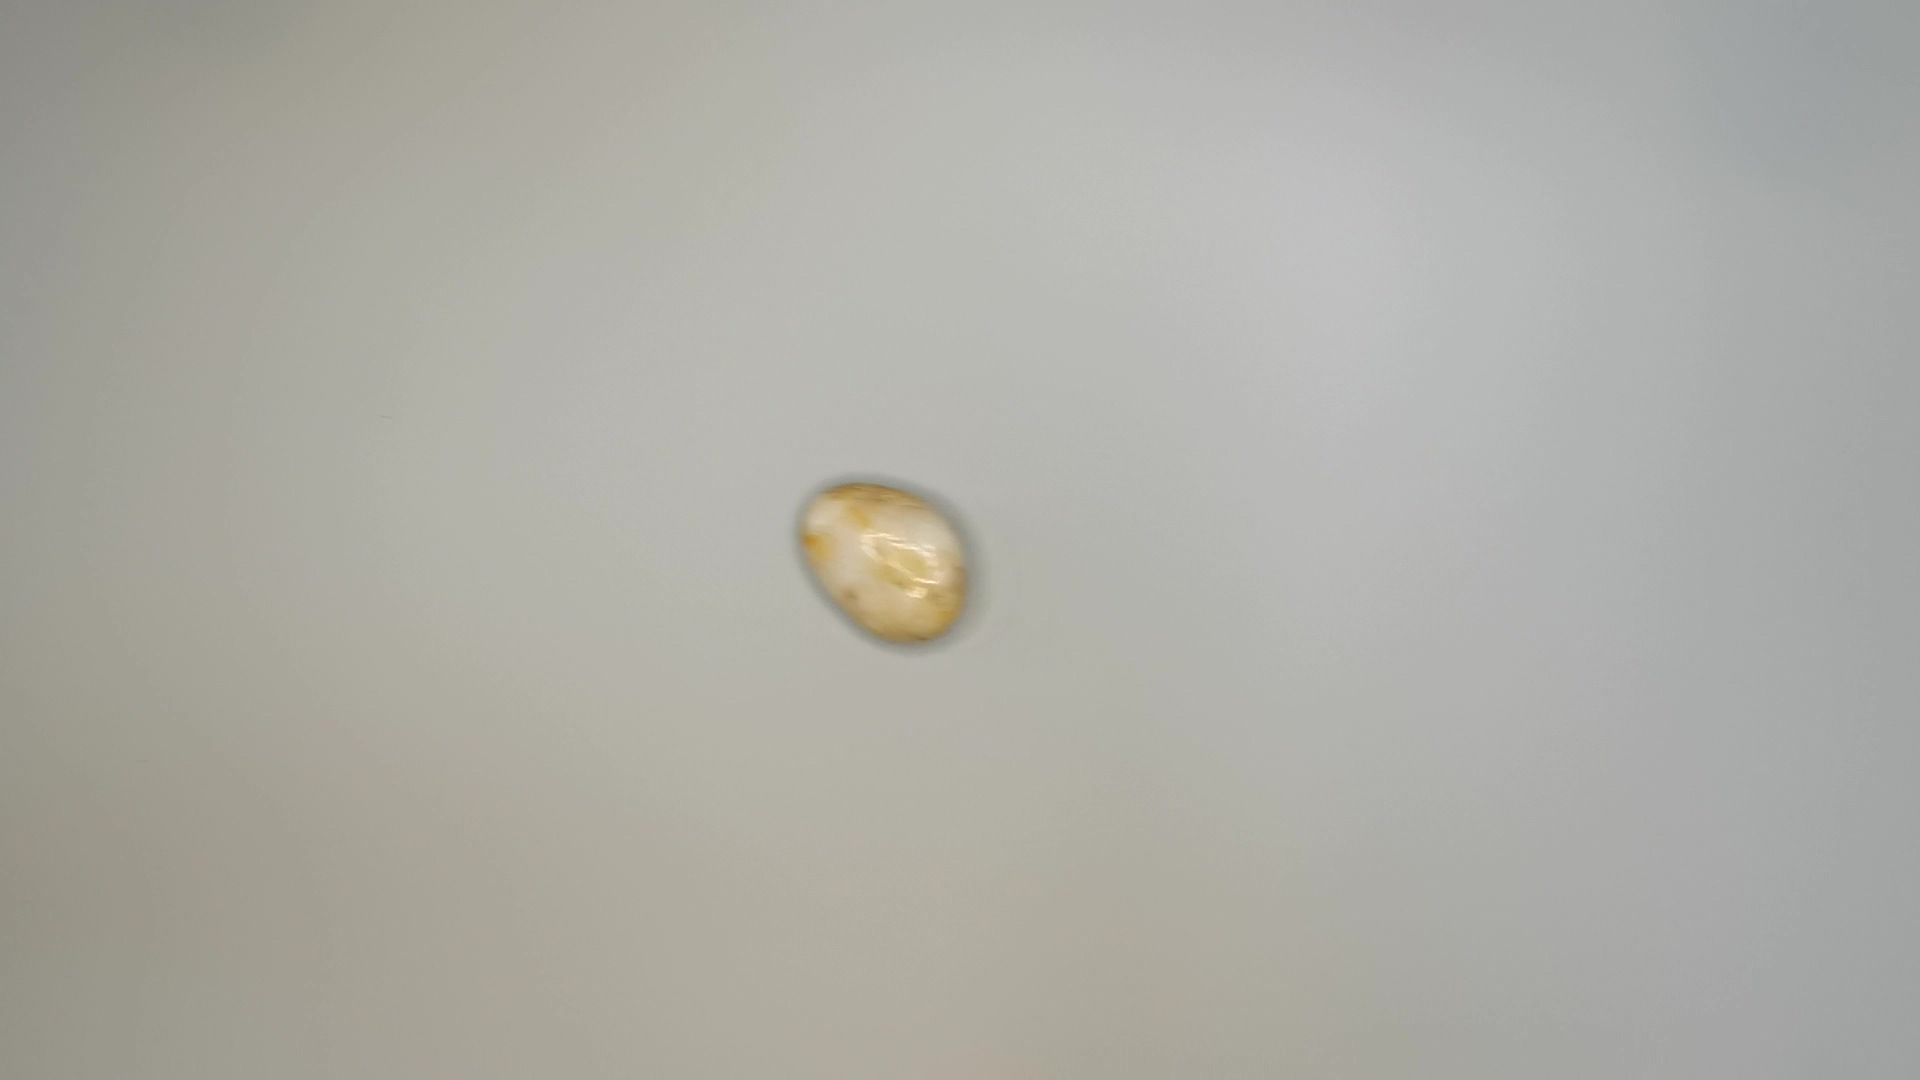ceramic: (793, 476, 978, 654)
